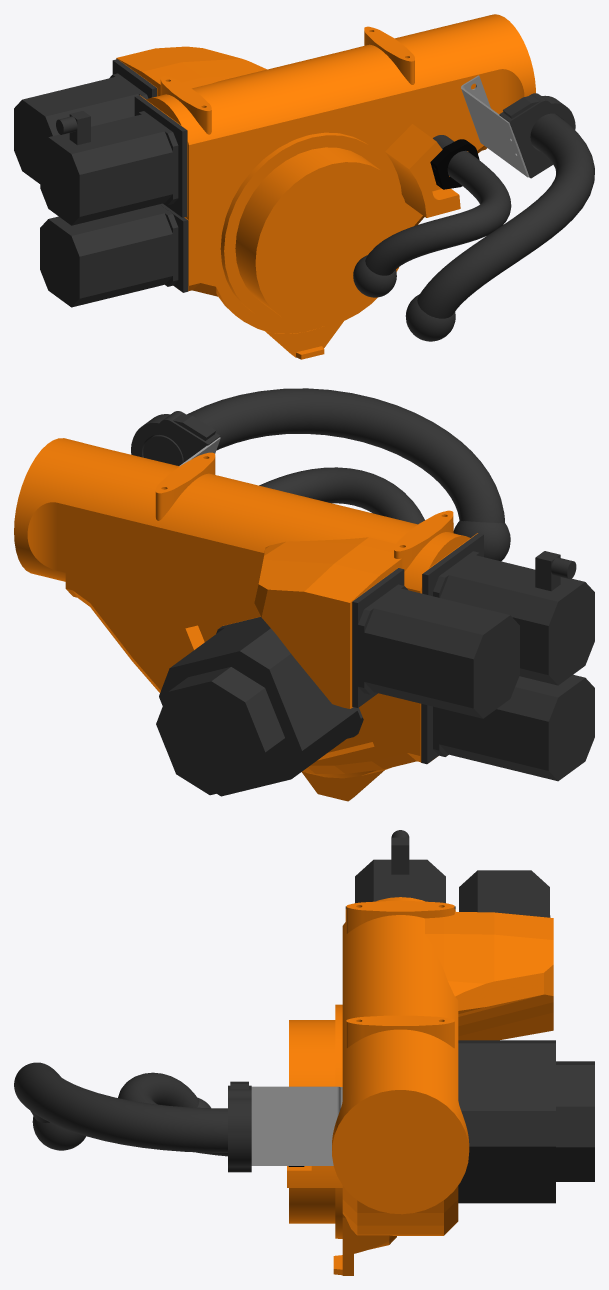
Rendered from kuka_kr_60_3.fbx.
3 views of the same model, one above another, from view 1: azimuth 30°, elevation 25°; view 2: azimuth 150°, elevation 25°; view 3: azimuth 270°, elevation 25° (orthographic). The views are drawn at different scales.
Visible parts, largest first — view 1: 3; view 2: 3; view 3: 3.
Part boxes in pixels (bbox=[...]): 3: bbox=[14, 14, 594, 359]; 3: bbox=[14, 388, 594, 801]; 3: bbox=[14, 830, 594, 1275].
Size of the model in its own units: 0.823 by 0.477 by 0.8039.
